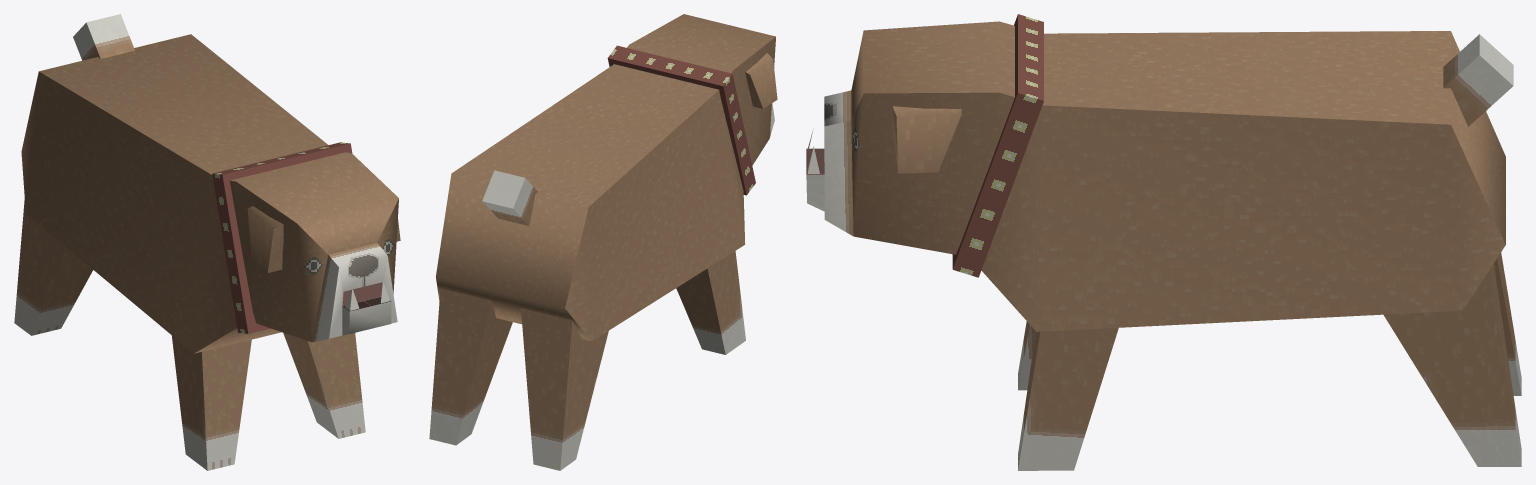
The model's file is 01f9_Bulldog.glb.
3 views of the same model, side by side, from view 1: azimuth 30°, elevation 25°; view 2: azimuth 150°, elevation 25°; view 3: azimuth 270°, elevation 25° (orthographic). The views are drawn at different scales.
Visible parts, largest first — view 1: part_0; view 2: part_0; view 3: part_0.
Boxes of the visible parts, bbox=[...] form: part_0: bbox=[14, 14, 400, 470]; part_0: bbox=[429, 14, 777, 470]; part_0: bbox=[806, 14, 1521, 470].
Size of the model in its own units: 0.2353 by 0.3942 by 0.6767.
1 material, 1 textured.
